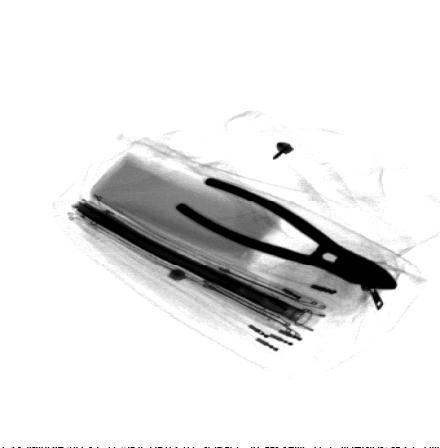Pliers: (172, 176, 400, 291)
